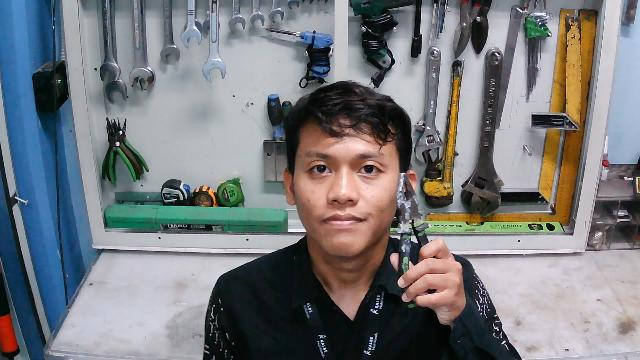tang_kombinasi: (393, 171, 438, 307)
